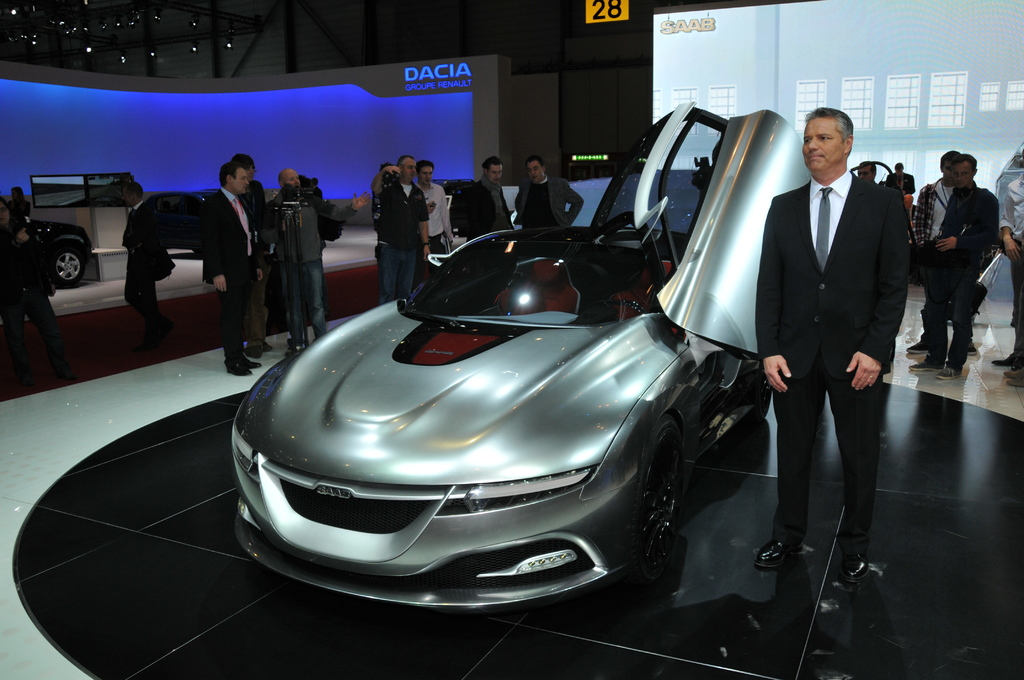mobil: (229, 197, 765, 624)
